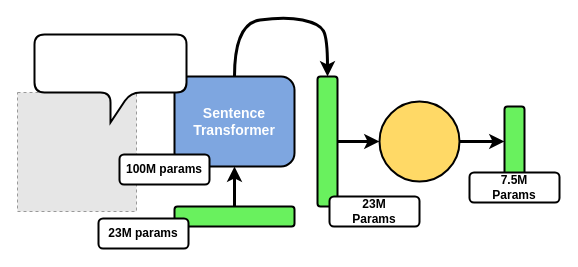
Image size: 578x267. Some labels were removed from this diagram. Grey dashed boxes stand in for pictures. Here are the shapes that lost their labels. From the top down, the centre of each, then its label:
At [110,78]: "That's a pretty small model!".
At [419,141]: "PCA + zipf".
At [234,216]: "Input tokens".
